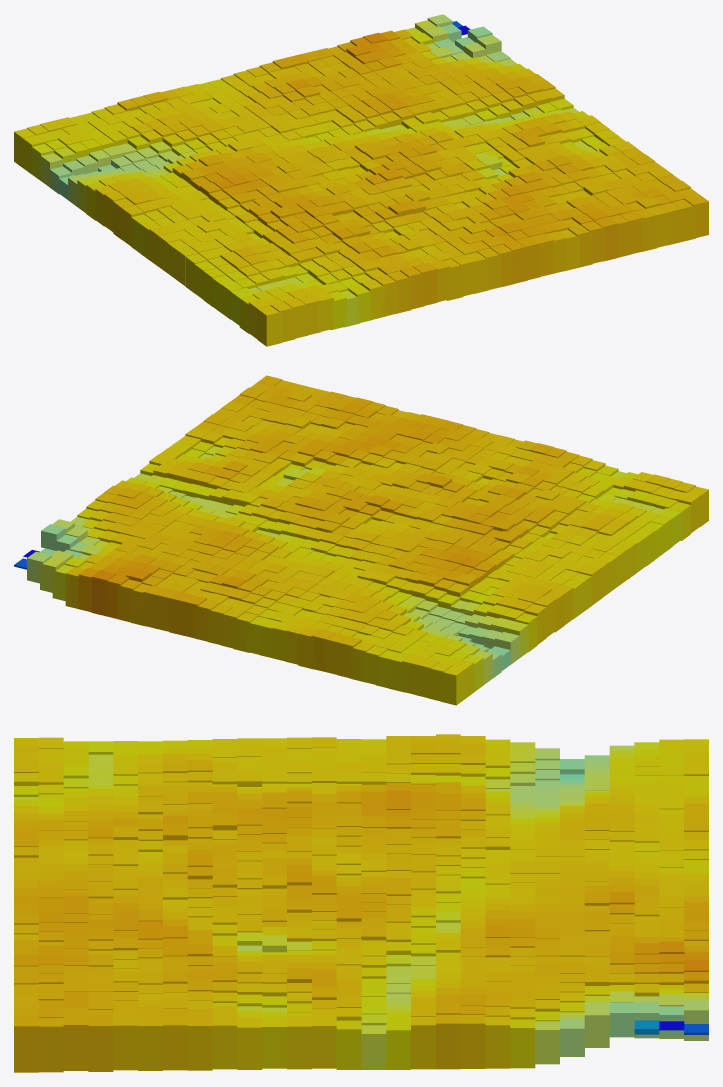
Rendered from population.glb.
3 views of the same model, one above another, from view 1: azimuth 30°, elevation 25°; view 2: azimuth 150°, elevation 25°; view 3: azimuth 270°, elevation 25° (orthographic). The views are drawn at different scales.
Parts seen in each view (by area): view 1: population; view 2: population; view 3: population.
Boxes of the visible parts, box(x1,y1,x2,y2) form: population: box(14, 14, 708, 346); population: box(14, 375, 708, 705); population: box(14, 734, 708, 1072).
Bounding box in the file's own units: 2821 × 290 × 2790.
